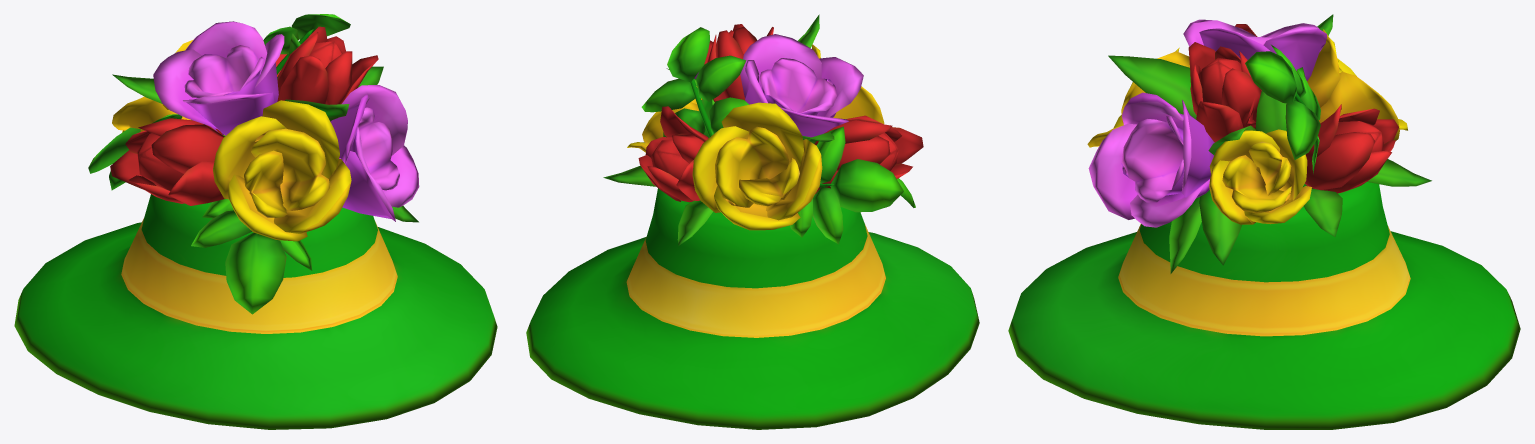
Rendered from LvMaoZi.FBX.
3 renders of one model, left to right at view 1: azimuth 30°, elevation 25°; view 2: azimuth 150°, elevation 25°; view 3: azimuth 270°, elevation 25°, orthographic. The views are drawn at different scales.
Visible parts, largest first — view 1: LvMaoZi; view 2: LvMaoZi; view 3: LvMaoZi.
Part boxes in pixels (left/top/right/bottom): LvMaoZi: left=14, top=14, right=497, bottom=429; LvMaoZi: left=526, top=14, right=979, bottom=429; LvMaoZi: left=1008, top=14, right=1520, bottom=429.
Size of the model in its own units: 82.73 by 58.79 by 88.76.
1 material, 1 textured.
